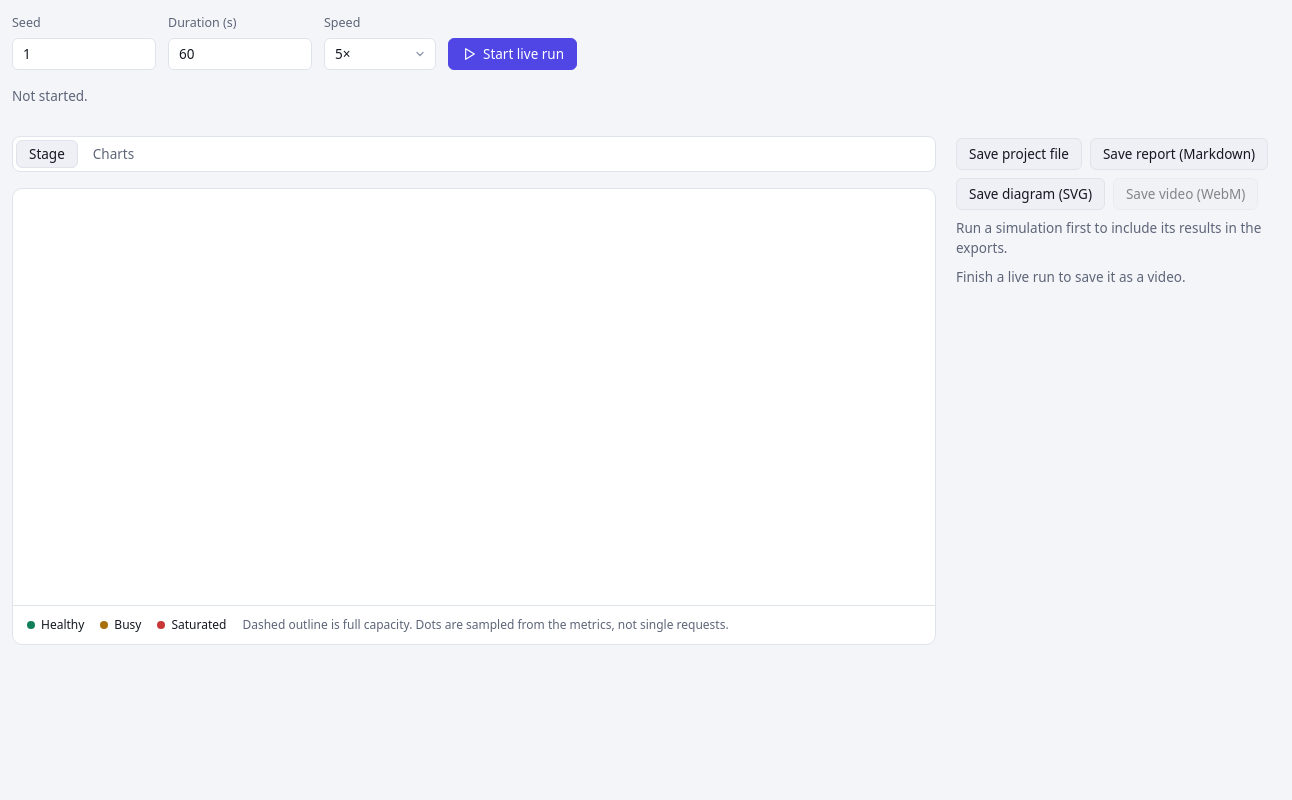
Test: LivePanel › reports an engine failure from the stream
Click the button "Start live run". click: (512, 54)
box: [448,38,577,70]
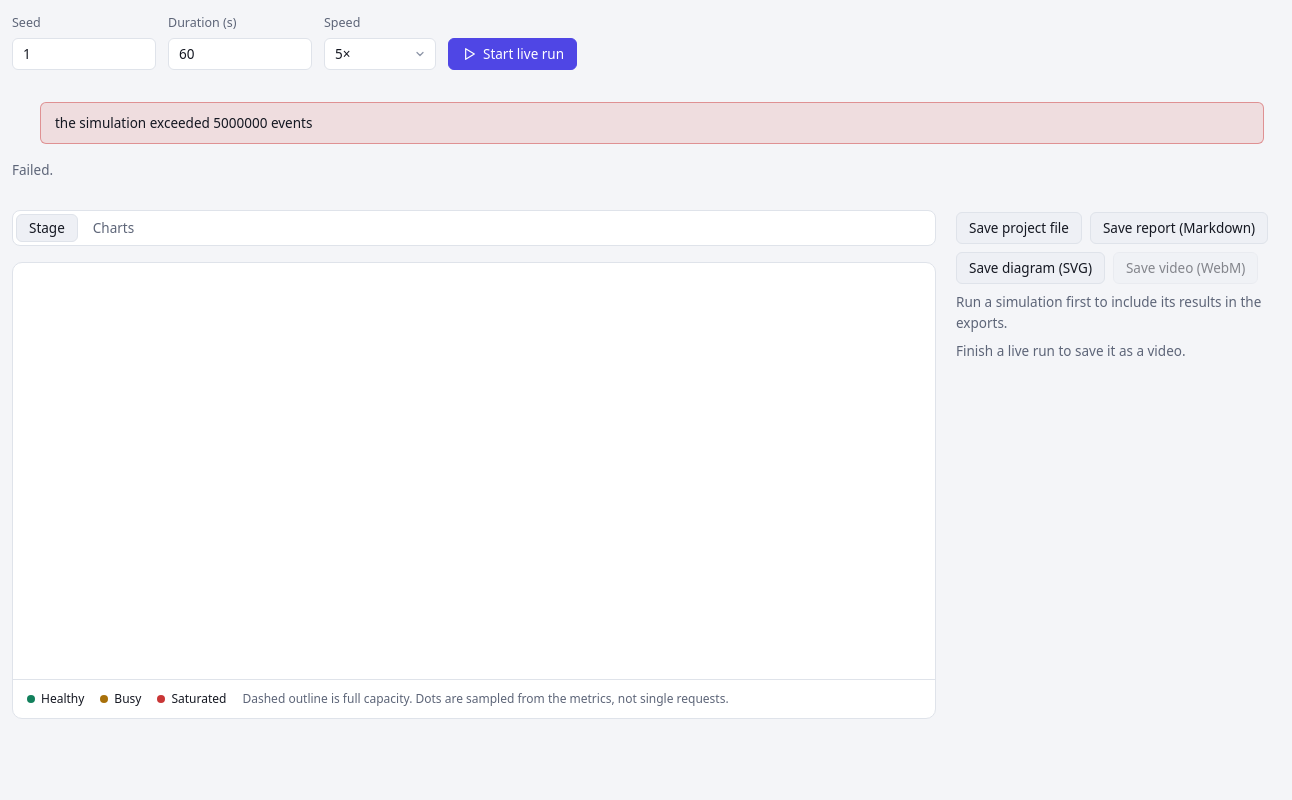
Now the message "the simulation exceeded 5000000 events" is shown, box [40,102,1264,144]
